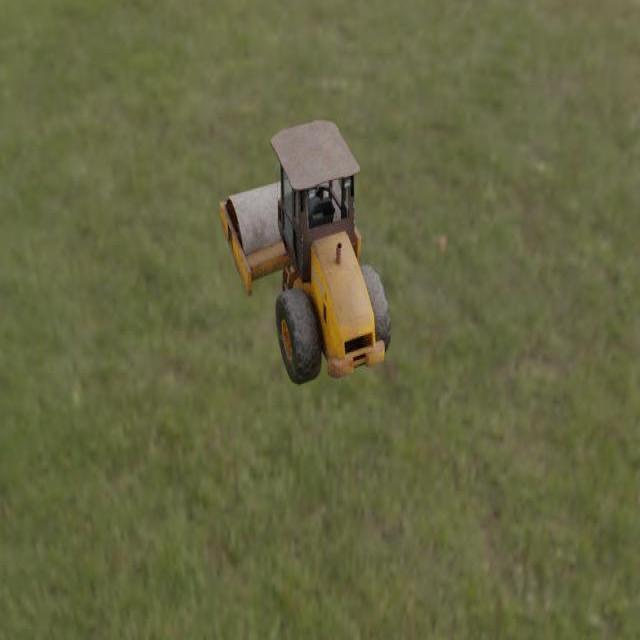Roller: (219, 119, 391, 385)
